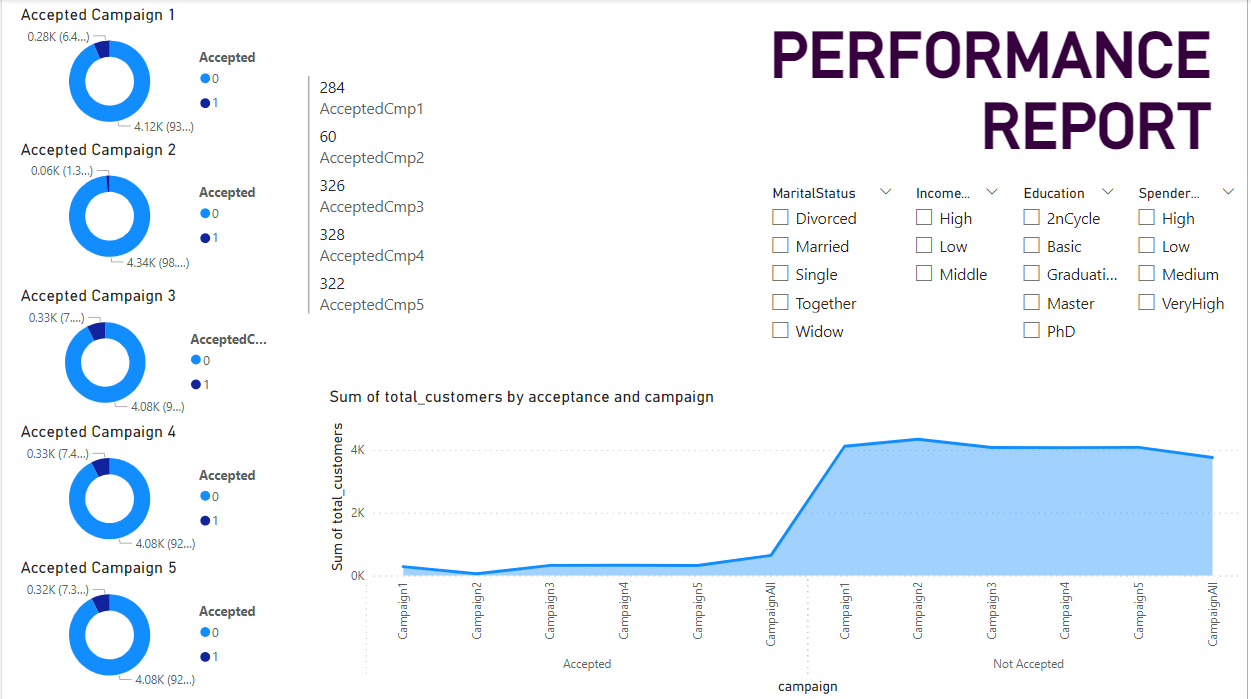

The dashboard page shown, as its layout file describes it:
{"tool":"powerbi","page":{"name":"Campaign","canvas":[1280,720],"ordinal":0},"visuals":[{"type":"multiRowCard","title":"Acceptance","fields":{"Values":["Sum(public ifood_table_silver.AcceptedCmp1)","Sum(public ifood_table_silver.AcceptedCmp2)","Sum(public ifood_table_silver.AcceptedCmp3)","Sum(public ifood_table_silver.AcceptedCmp4)","Sum(public ifood_table_silver.AcceptedCmp5)"]},"box":[310,74.3,170,305.7],"z":0},{"type":"stackedAreaChart","fields":{"Category":["public ifood_table_campaign_agg (2).acceptance","public ifood_table_campaign_agg (2).campaign"],"Y":["Sum(public ifood_table_campaign_agg (2).total_customers)"]},"box":[331.4,398.6,948.6,321.4],"z":1000},{"type":"donutChart","title":"Accepted Campaign 1","fields":{"Y":["CountNonNull(public ifood_table_silver.AcceptedCmp1)"],"Category":["public ifood_table_silver.AcceptedCmp1"]},"box":[13.7,4.6,271.4,140],"z":2000},{"type":"donutChart","title":"Accepted Campaign 2","fields":{"Category":["public ifood_table_silver.AcceptedCmp2"],"Y":["CountNonNull(public ifood_table_silver.AcceptedCmp2)"]},"box":[13.7,144.6,271.4,140],"z":3000},{"type":"donutChart","title":"Accepted Campaign 3","fields":{"Y":["CountNonNull(public ifood_table_silver.AcceptedCmp3)"],"Category":["public ifood_table_silver.AcceptedCmp3"]},"box":[13.7,294.6,271.4,140],"z":4000},{"type":"donutChart","title":"Accepted Campaign 4","fields":{"Y":["CountNonNull(public ifood_table_silver.AcceptedCmp4)"],"Category":["public ifood_table_silver.AcceptedCmp4"]},"box":[13.7,434.6,271.4,140],"z":5000},{"type":"donutChart","title":"Accepted Campaign 5","fields":{"Y":["CountNonNull(public ifood_table_silver.AcceptedCmp5)"],"Category":["public ifood_table_silver.AcceptedCmp5"]},"box":[13.7,574.6,271.4,140],"z":6000},{"type":"textbox","box":[764.3,14.3,484.3,165.7],"z":7000},{"type":"slicer","fields":{"Values":["public ifood_table_silver.Education"]},"box":[1037.1,186.2,118.6,180],"z":8000},{"type":"slicer","fields":{"Values":["public ifood_table_silver.IncomeGroup"]},"box":[927.1,186.2,110,150],"z":9000},{"type":"slicer","fields":{"Values":["public ifood_table_silver.MaritalStatus"]},"box":[778.6,186.2,148.6,180],"z":10000},{"type":"slicer","fields":{"Values":["public ifood_table_silver.SpenderGroup"]},"box":[1155.7,186.2,124.3,150],"z":11000}]}

Visuals, with their boxes in screenshot pixels (x1, y1, x2, y2), scaled from the page's 1280x720 canvas onto the 1251x699 screenshot:
"Acceptance" multiRowCard: (x1=303, y1=72, x2=469, y2=369)
stackedAreaChart - public ifood_table_campaign_agg (2).acceptance x public ifood_table_campaign_agg (2).campaign: (x1=324, y1=387, x2=1250, y2=698)
"Accepted Campaign 1" donutChart: (x1=13, y1=4, x2=279, y2=140)
"Accepted Campaign 2" donutChart: (x1=13, y1=140, x2=279, y2=276)
"Accepted Campaign 3" donutChart: (x1=13, y1=286, x2=279, y2=422)
"Accepted Campaign 4" donutChart: (x1=13, y1=422, x2=279, y2=558)
"Accepted Campaign 5" donutChart: (x1=13, y1=558, x2=279, y2=694)
textbox: (x1=747, y1=14, x2=1220, y2=175)
slicer - public ifood_table_silver.Education: (x1=1014, y1=181, x2=1130, y2=356)
slicer - public ifood_table_silver.IncomeGroup: (x1=906, y1=181, x2=1014, y2=326)
slicer - public ifood_table_silver.MaritalStatus: (x1=761, y1=181, x2=906, y2=356)
slicer - public ifood_table_silver.SpenderGroup: (x1=1130, y1=181, x2=1250, y2=326)
